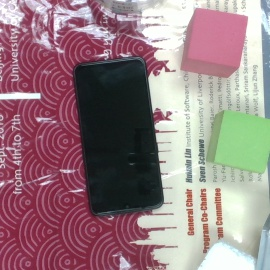phone: (70, 55, 165, 216)
